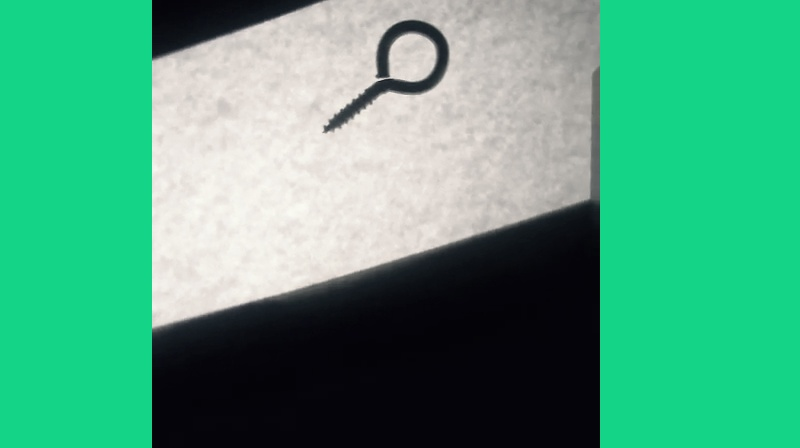O001: (319, 13, 453, 134)
